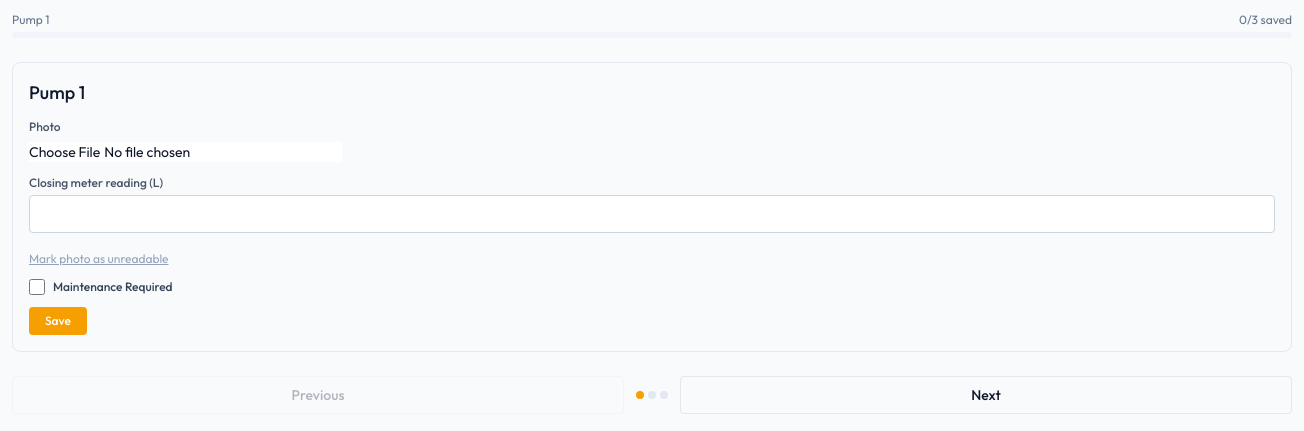
it: PumpCarousel › Previous button goes back to the prior pump
Step 1. Click the button "Next" → (986, 395), box [680,376,1292,414]
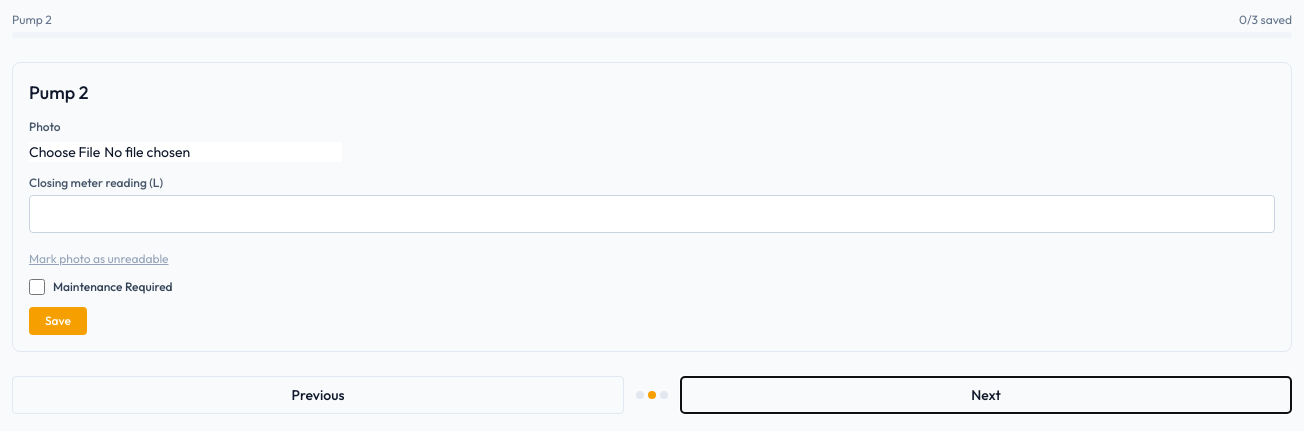
Step 2. Click the button "Previous" → (318, 395), box [12,376,624,414]
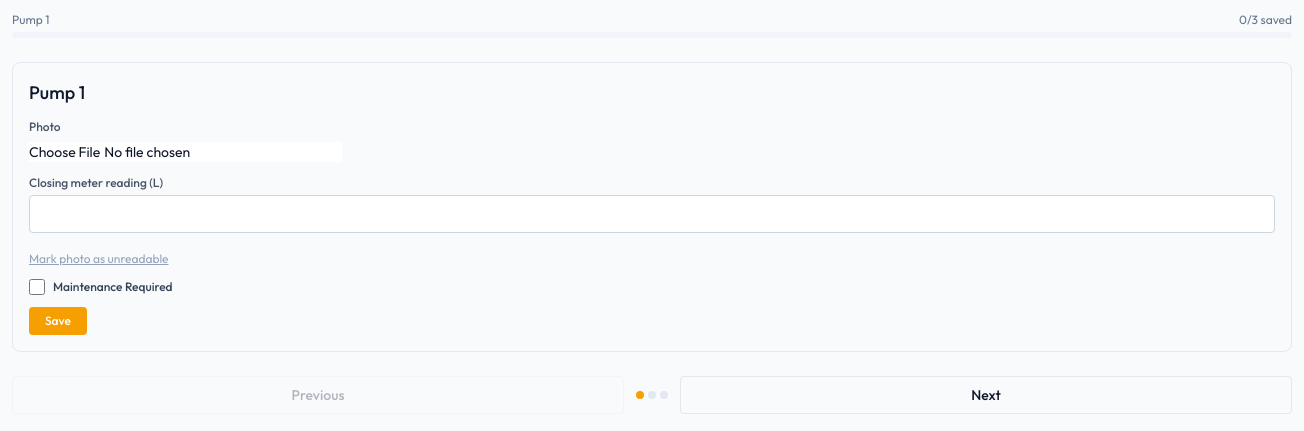
Result: the text "Pump 1" in the row of "saved" is shown at [12,12,49,27]
